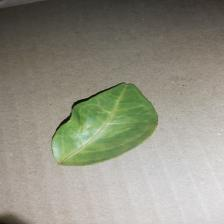greening: (50, 83, 160, 167)
